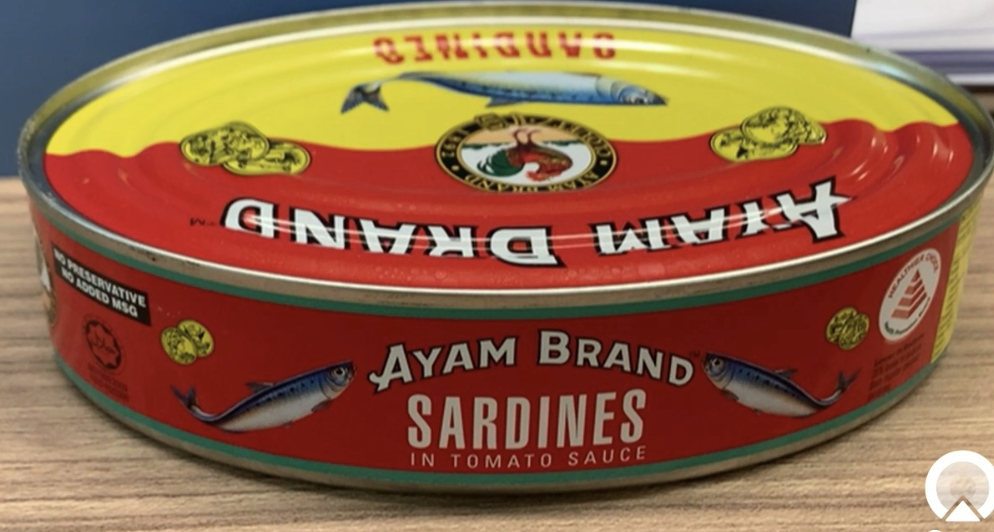sardines_400g-499g: (56, 39, 930, 452)
